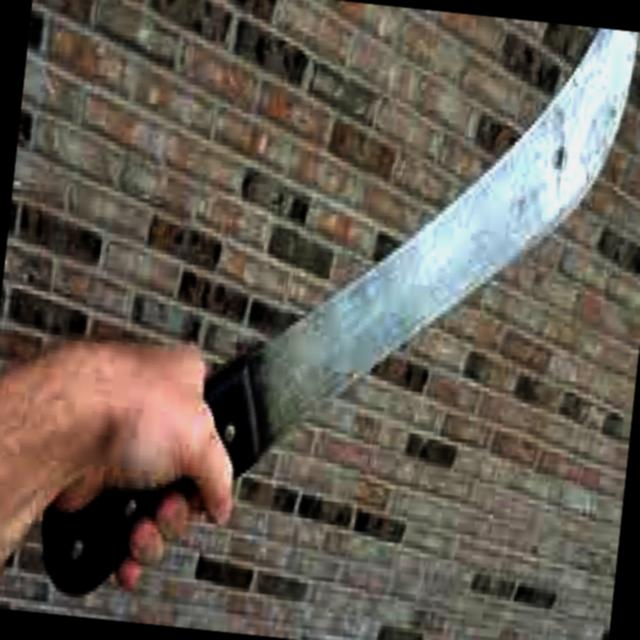long sword: (31, 0, 636, 640)
